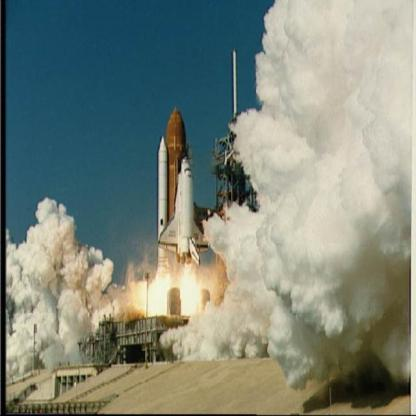MIL_TBM: (158, 132, 170, 248)
